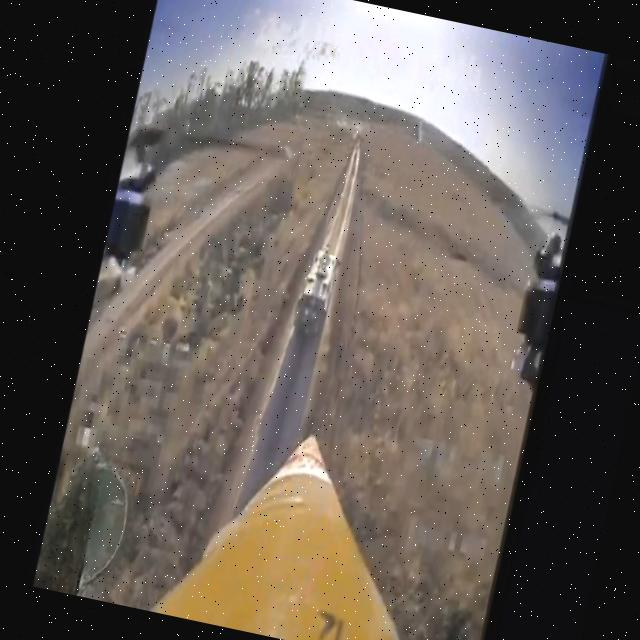APC: (290, 240, 346, 352)
